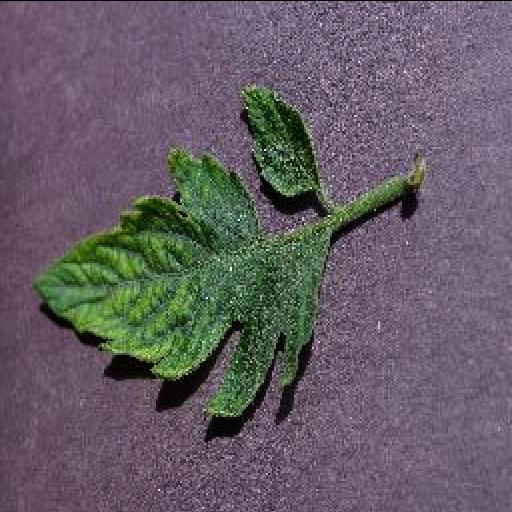Mosaic Virus: (34, 86, 332, 416)
